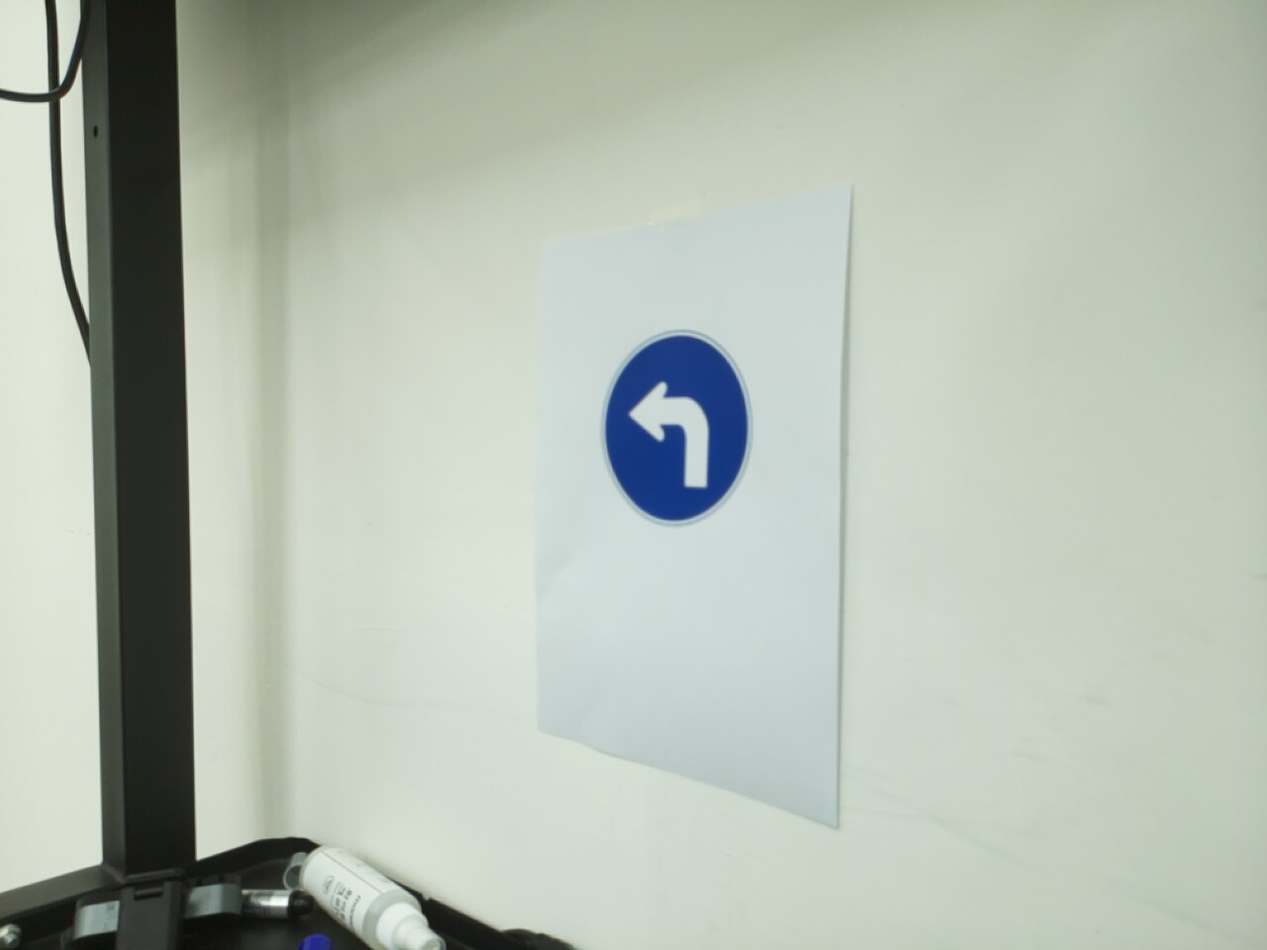left_turn: (598, 329, 755, 527)
